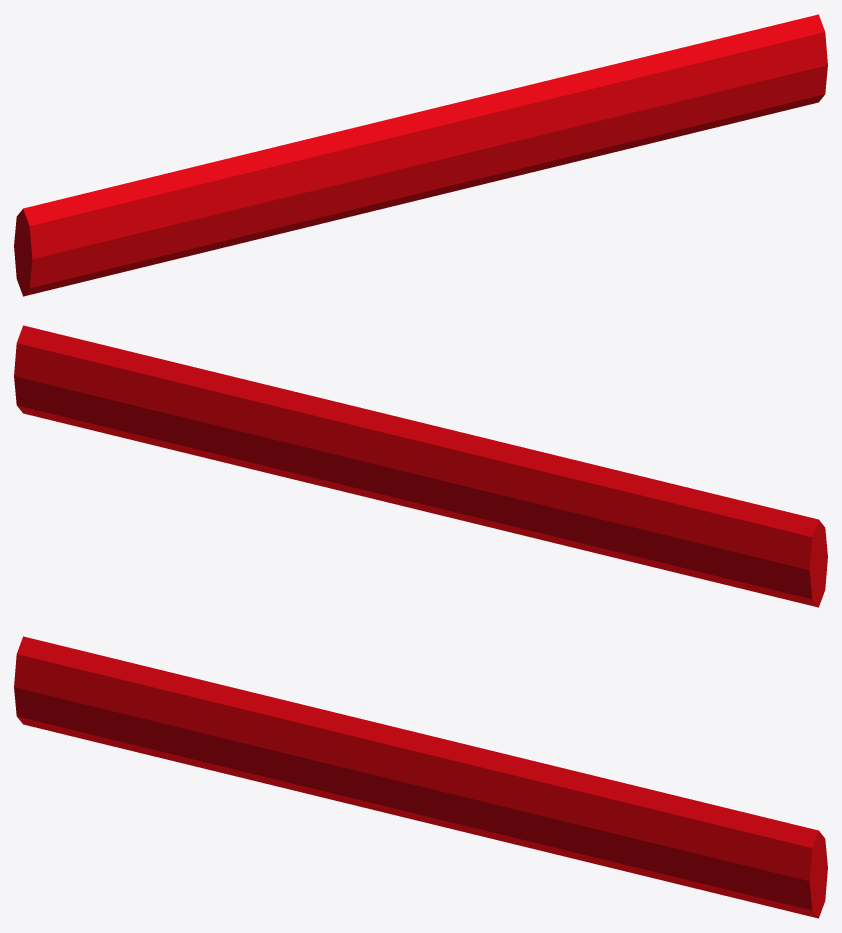
The model's file is BarraVida.dae.
3 renders of one model, top to bottom at view 1: azimuth 30°, elevation 25°; view 2: azimuth 150°, elevation 25°; view 3: azimuth 330°, elevation 25°, orthographic.
Parts seen in each view (by area): view 1: Vida; view 2: Vida; view 3: Vida.
Boxes of the visible parts, x1,y1,x2,y2 form: Vida: (14,14,827,296); Vida: (14,325,827,607); Vida: (14,636,827,918).
Size of the model in its own units: 0.5 by 0.02 by 0.0529.
